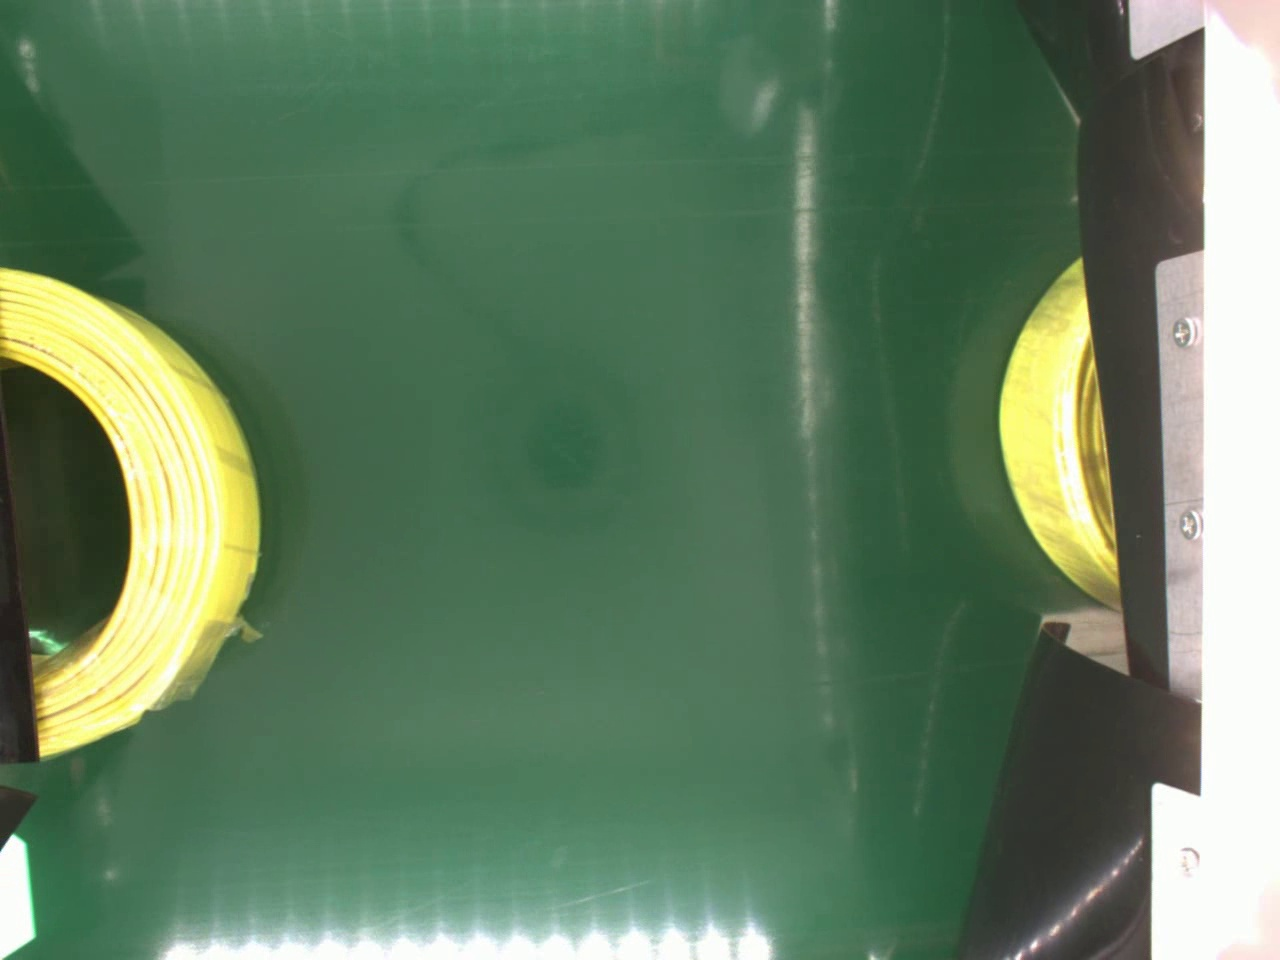yellow: (0, 261, 266, 761)
